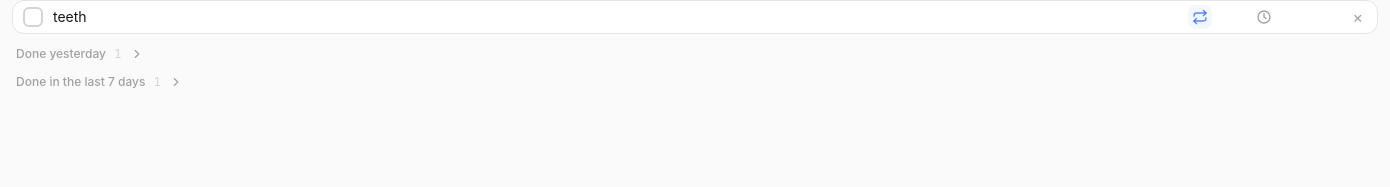
Test: days a repeating task was done on before (TASK-75) › lists each day under the span it falls in, while the habit is to do again today
Step 1. Click the button "Done yesterday 1" → (80, 54), box [16,40,144,68]
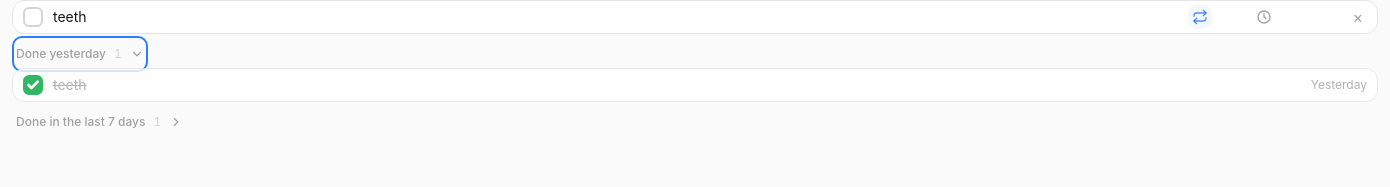
Step 2. Click the button "Done in the last 7 days 1" → (100, 122), box [16,108,183,136]
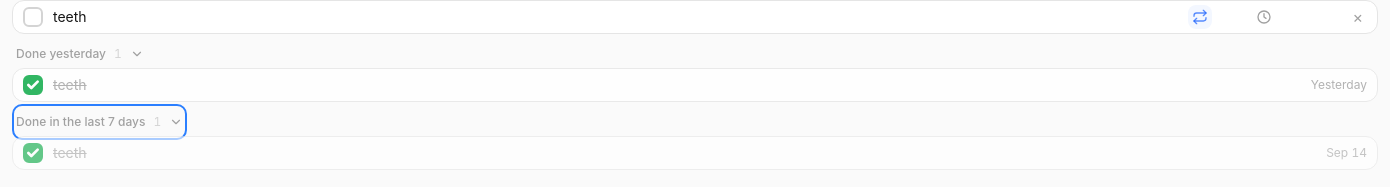
Expected: the button named "\"teeth\", done yesterday. Open the task" reads "teeth Yesterday", [13,69,1377,101]
Expected: the button named "\"teeth\", done on Sep 14. Open the task" reads "teeth Sep 14", [13,137,1377,169]
